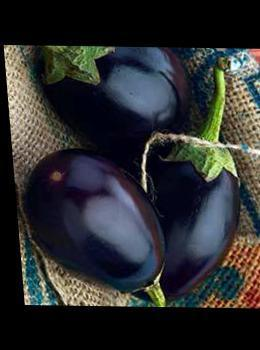eggplant: (33, 46, 256, 294), (11, 145, 167, 299)
